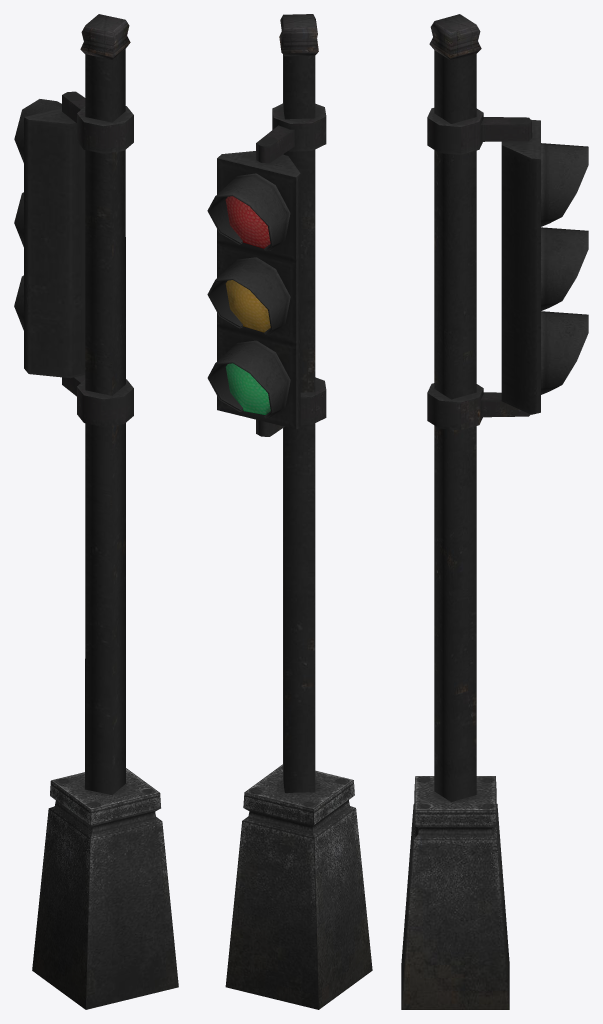
File: Traffic_Light_3.glb
3 renders of one model, left to right at view 1: azimuth 30°, elevation 25°; view 2: azimuth 150°, elevation 25°; view 3: azimuth 270°, elevation 25°, orthographic.
Visible parts, largest first — view 1: Traffic_Light_3__LOD3; view 2: Traffic_Light_3__LOD3; view 3: Traffic_Light_3__LOD3.
Boxes of the visible parts, bbox=[...] form: Traffic_Light_3__LOD3: bbox=[14, 14, 178, 1009]; Traffic_Light_3__LOD3: bbox=[207, 14, 372, 1009]; Traffic_Light_3__LOD3: bbox=[401, 14, 588, 1009].
Size of the model in its own units: 0.3526 by 3.46 by 0.6095.
1 material, 1 textured.
